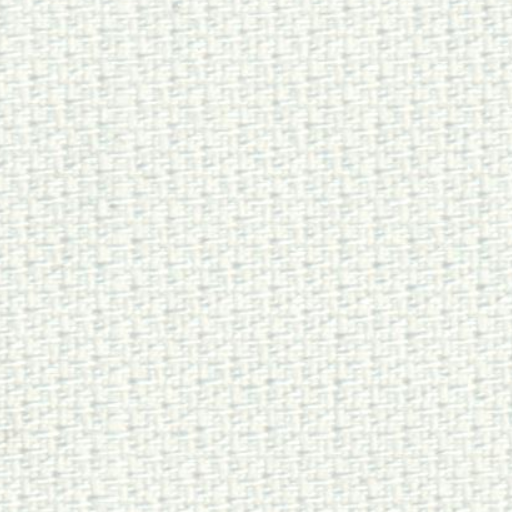TuoSha: (82, 19, 161, 507)
